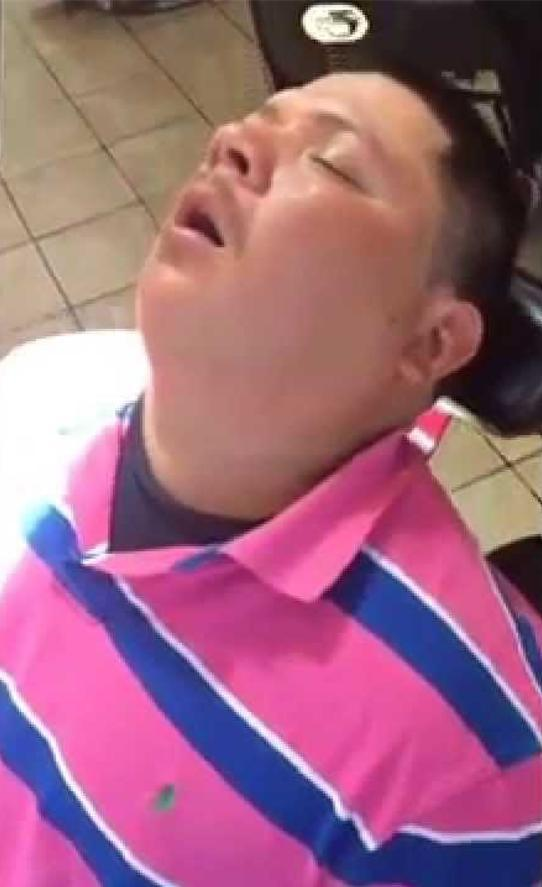Drunk: (151, 60, 415, 373)
